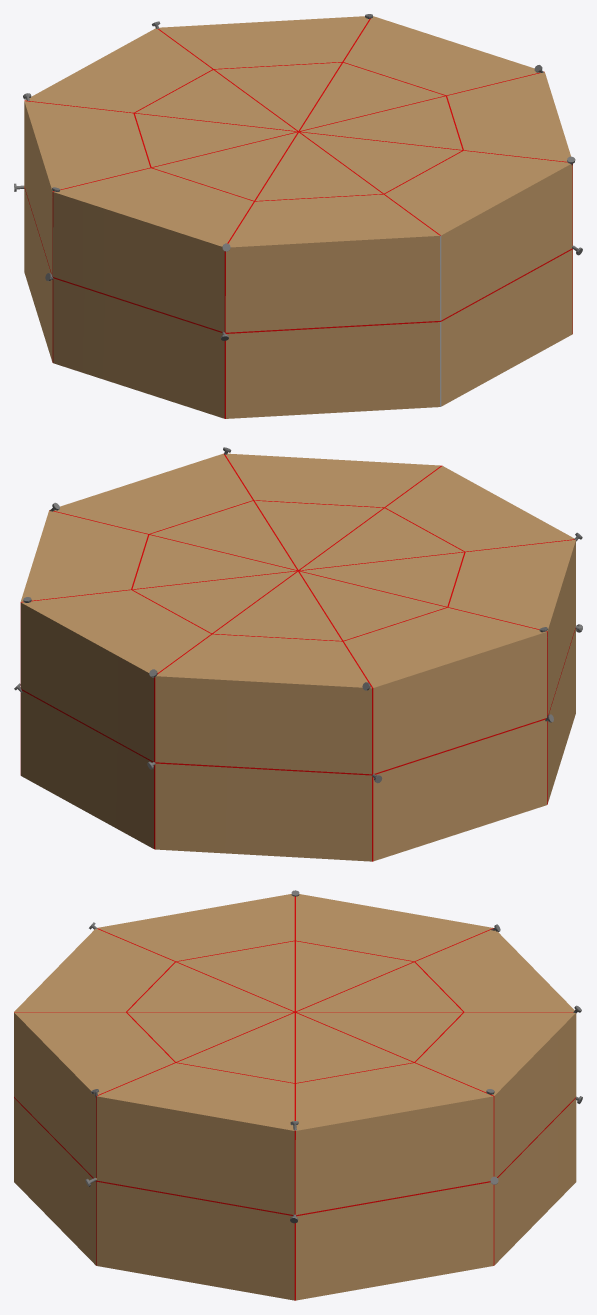
Rendered from SM_PlanksCylinder_2.fbx.
3 views of the same model, one above another, from view 1: azimuth 30°, elevation 25°; view 2: azimuth 150°, elevation 25°; view 3: azimuth 270°, elevation 25° (orthographic). The views are drawn at different scales.
Parts seen in each view (by area): view 1: SM_Planks_Cylinder_02; view 2: SM_Planks_Cylinder_02; view 3: SM_Planks_Cylinder_02.
Part boxes in pixels (x1,y1,x2,y2): SM_Planks_Cylinder_02: [14, 14, 582, 418]; SM_Planks_Cylinder_02: [14, 447, 582, 861]; SM_Planks_Cylinder_02: [14, 890, 582, 1300].
Size of the model in its own units: 614 by 209 by 607.
